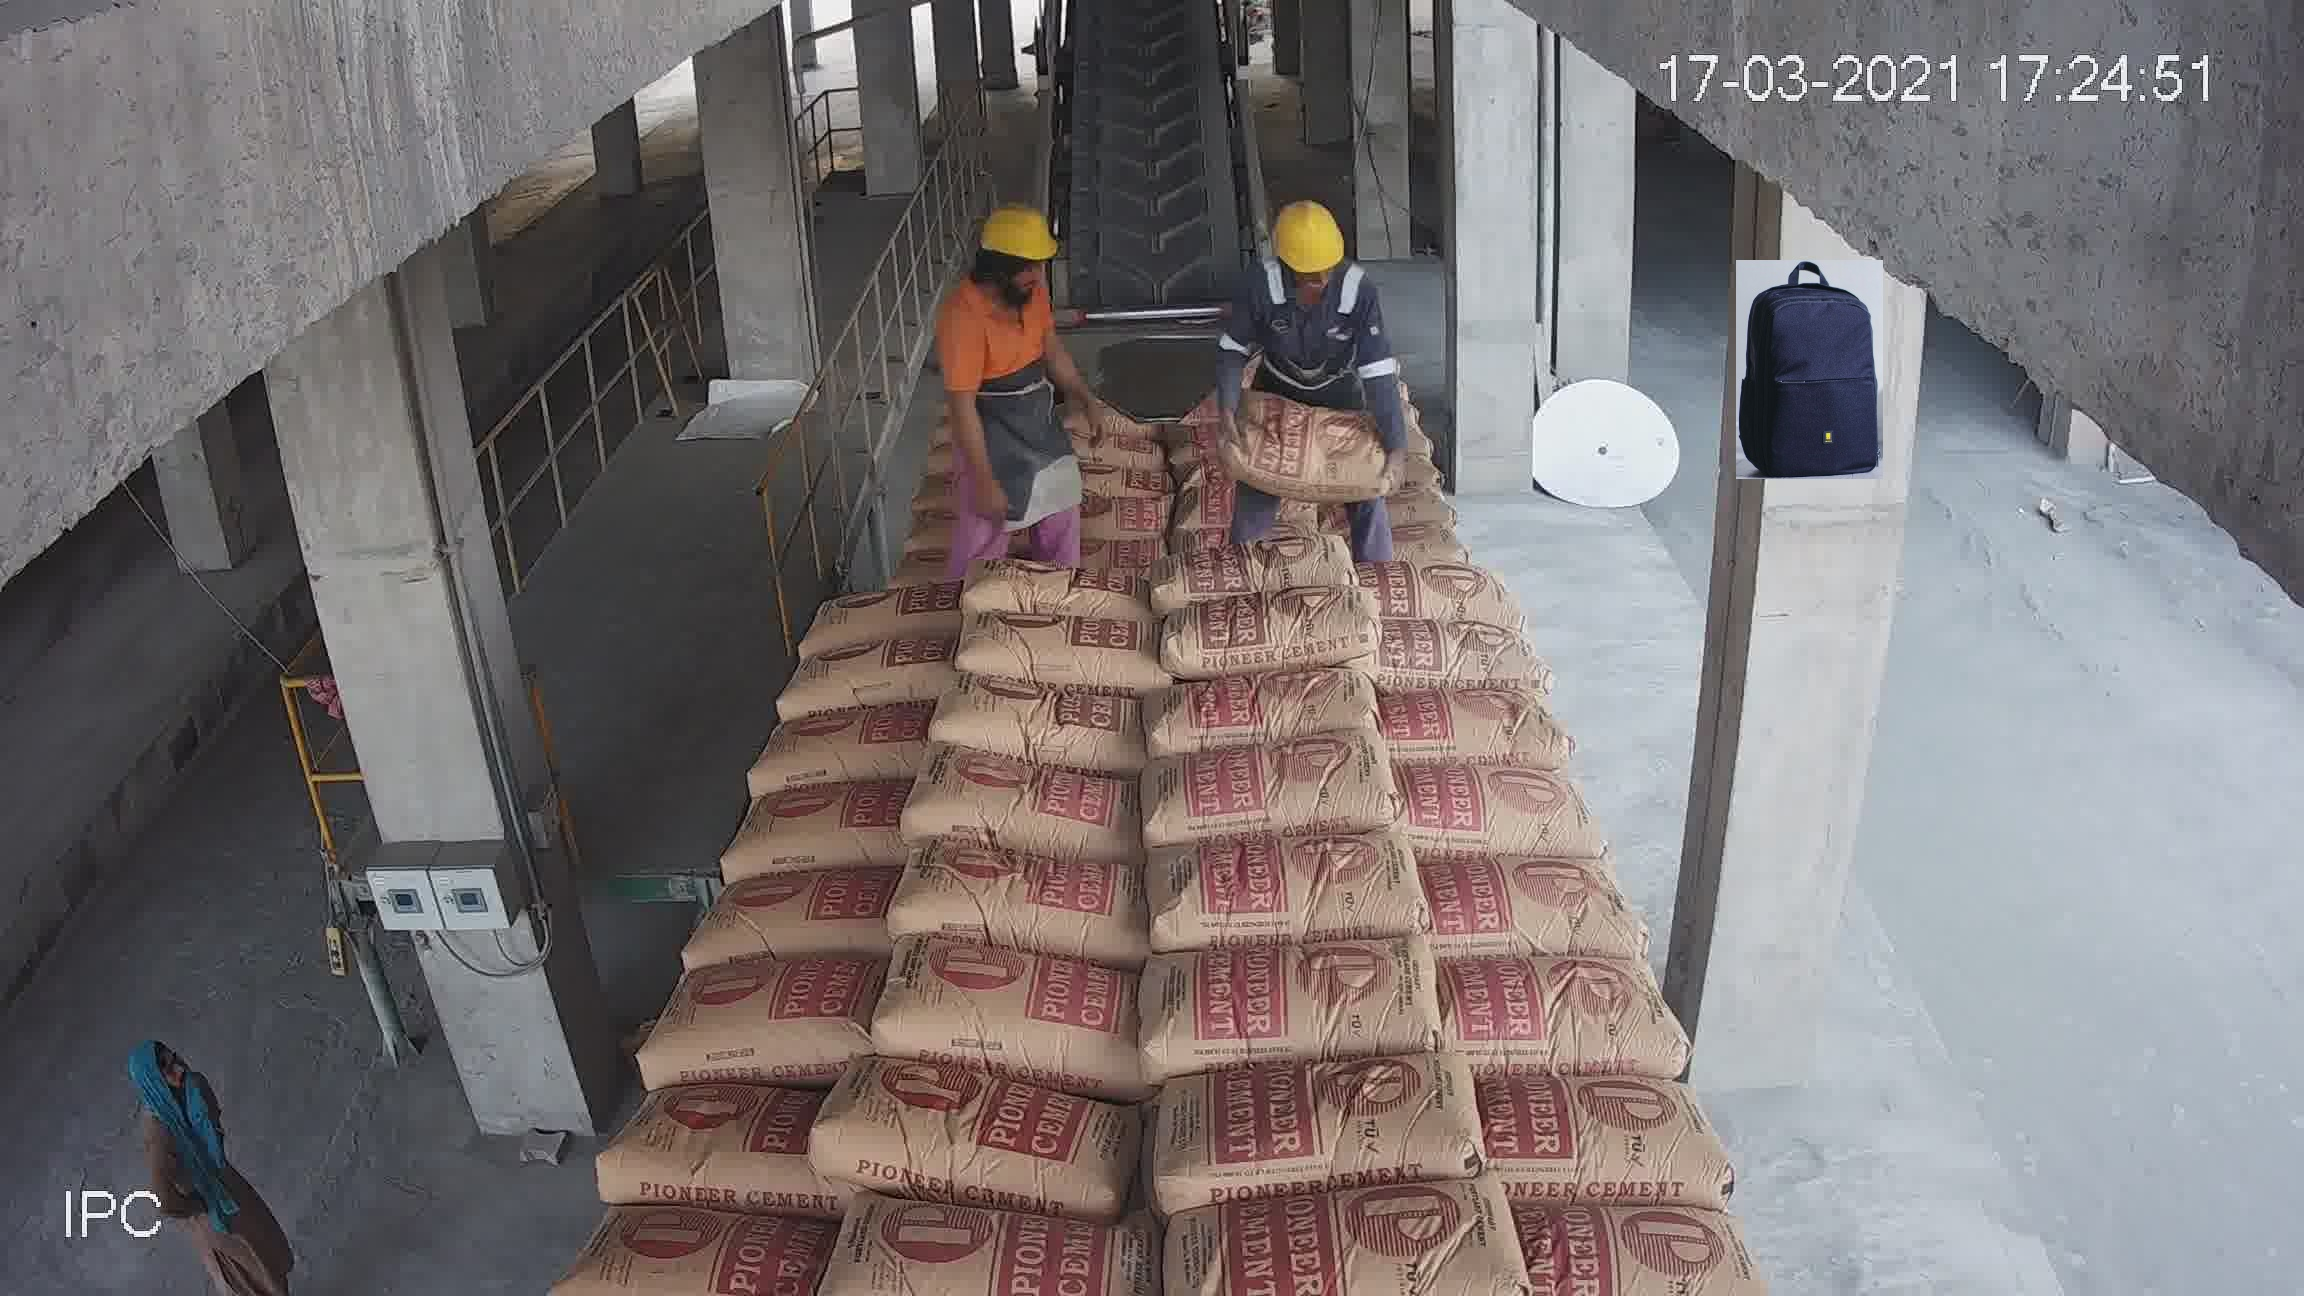bag: (1060, 5, 1244, 261), (1120, 234, 1215, 320), (1100, 5, 1188, 70)
bag_h: (1166, 1033, 1461, 1211), (809, 1051, 1157, 1192), (1152, 923, 1443, 1071), (1165, 1177, 1548, 1282), (880, 951, 1166, 1068), (1505, 1169, 1752, 1296), (1467, 1070, 1725, 1190), (1454, 962, 1692, 1092), (896, 850, 1161, 964), (794, 1222, 1184, 1296), (1133, 744, 1380, 861), (1432, 840, 1666, 961), (633, 954, 880, 1063), (1168, 831, 1407, 943), (608, 1060, 804, 1196), (1377, 761, 1595, 873), (1141, 508, 1350, 614), (1139, 600, 1381, 688), (677, 853, 881, 956), (562, 1207, 850, 1279), (945, 600, 1157, 692), (892, 756, 1146, 832), (731, 767, 907, 873), (1339, 703, 1582, 777), (745, 687, 937, 779), (902, 684, 1135, 755), (1157, 671, 1389, 742), (1389, 595, 1537, 707), (790, 630, 938, 718), (1353, 563, 1514, 639), (980, 505, 1154, 574), (980, 456, 1158, 522), (1143, 492, 1328, 552), (972, 555, 1147, 616), (1334, 508, 1506, 568), (829, 524, 968, 598), (1141, 457, 1326, 510), (805, 585, 956, 644), (991, 429, 1161, 479), (1160, 416, 1329, 467), (1165, 345, 1274, 421), (866, 441, 997, 503), (1339, 419, 1464, 476), (859, 486, 987, 541), (1161, 339, 1282, 396), (1366, 479, 1487, 522), (1173, 315, 1264, 370), (949, 373, 1006, 410), (942, 407, 1010, 437), (946, 424, 1000, 453)
